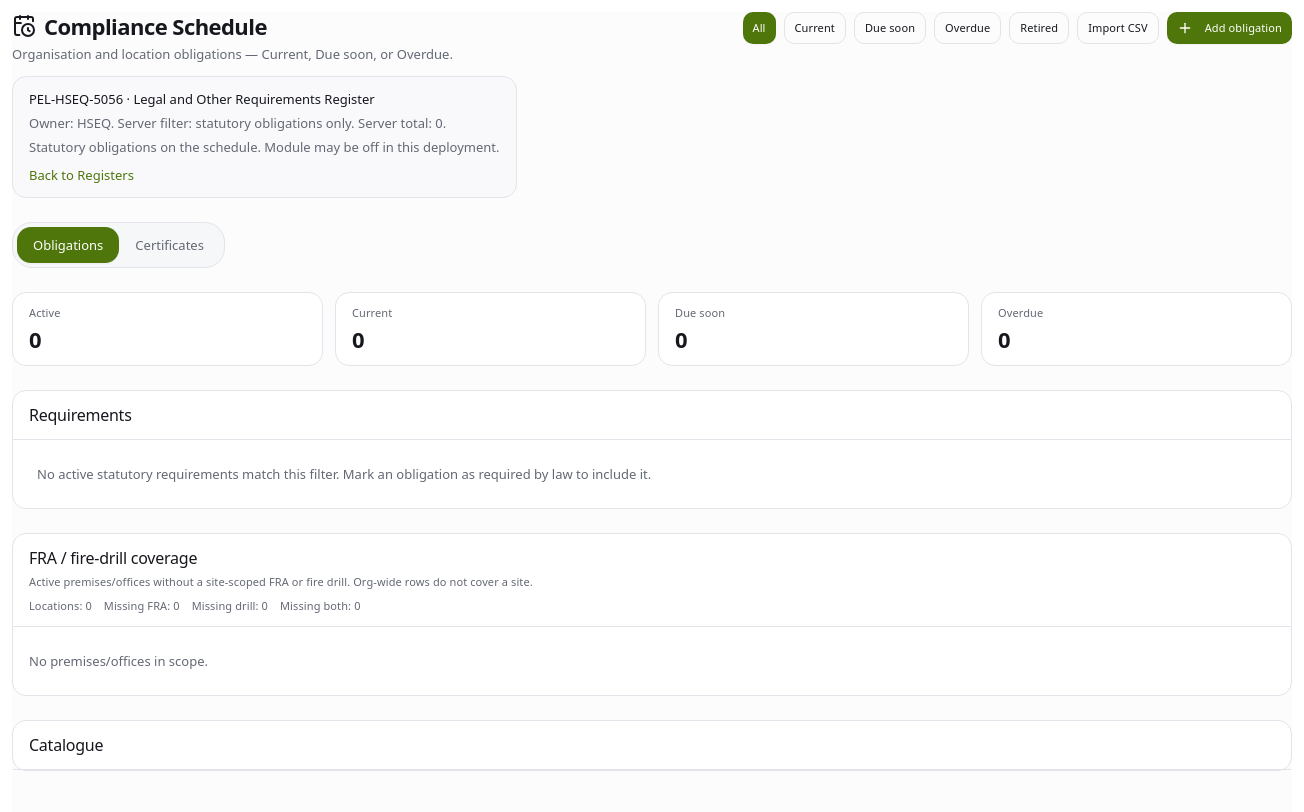
it: ComplianceSchedule certificates view › switches to certificates via the view switcher
The image size is (1304, 812).
expect the element with test id "compliance-schedule-view-switcher" is shown: met, box [12,222,225,268]
expect the element with test id "register-caption-banner" shows "PEL-HSEQ-5056": met, box [29,90,123,108]
Click the button with test id "compliance-schedule-view-certificates" at (170, 245), box [119,227,220,263]
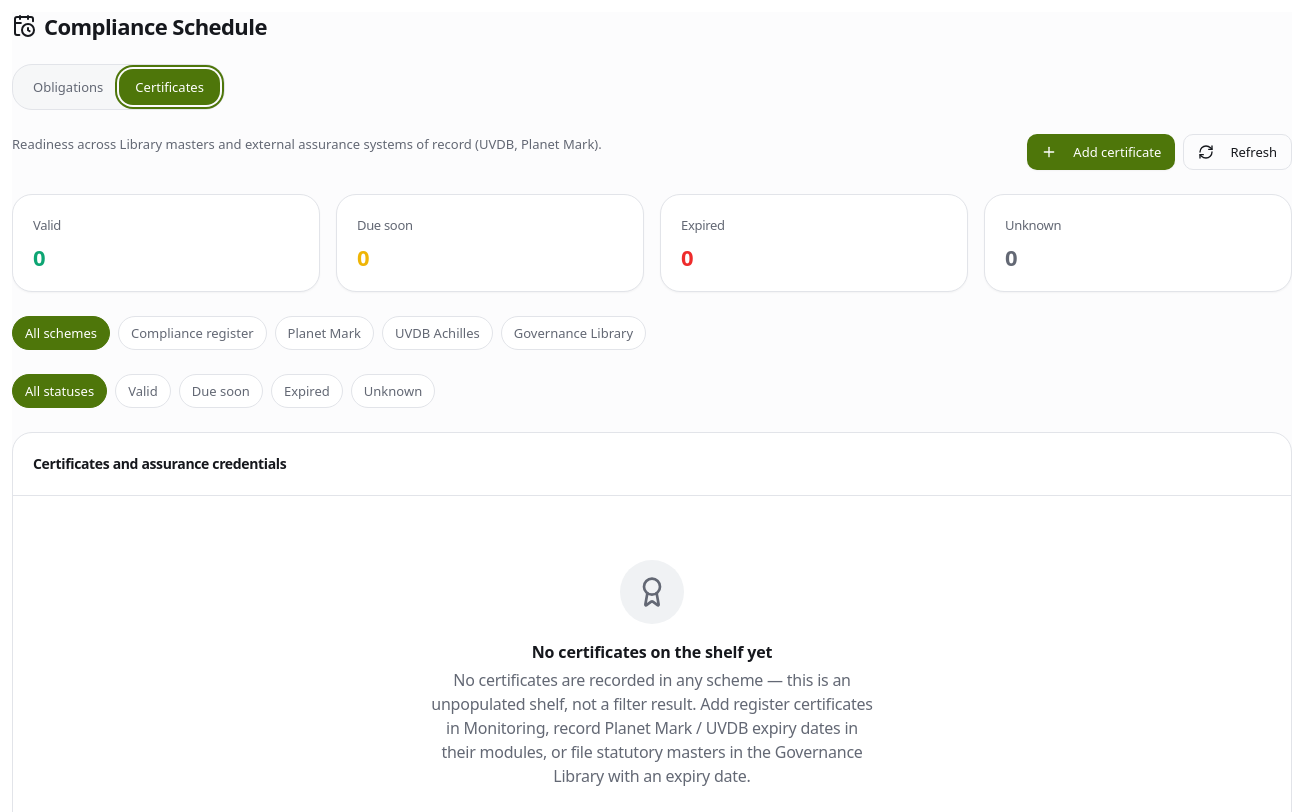
expect the element with test id "register-caption-banner" is gone: met
